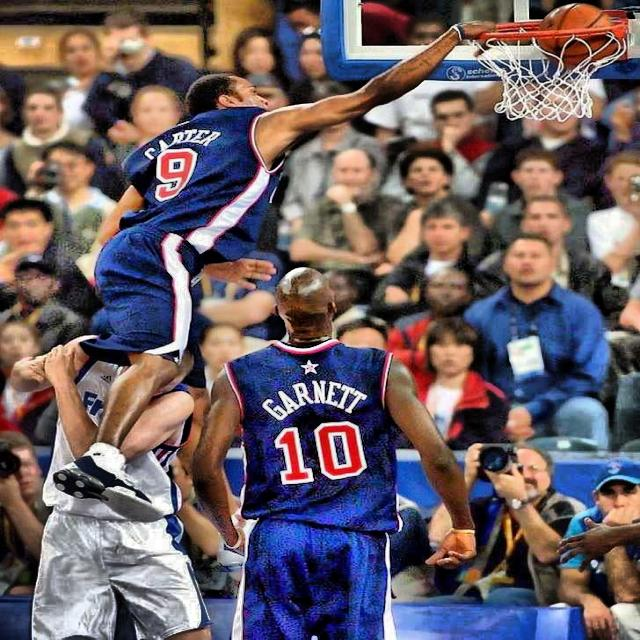rim: (469, 29, 624, 122)
